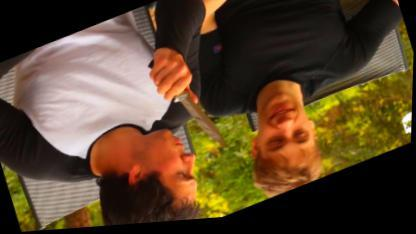knife: (139, 36, 239, 180)
